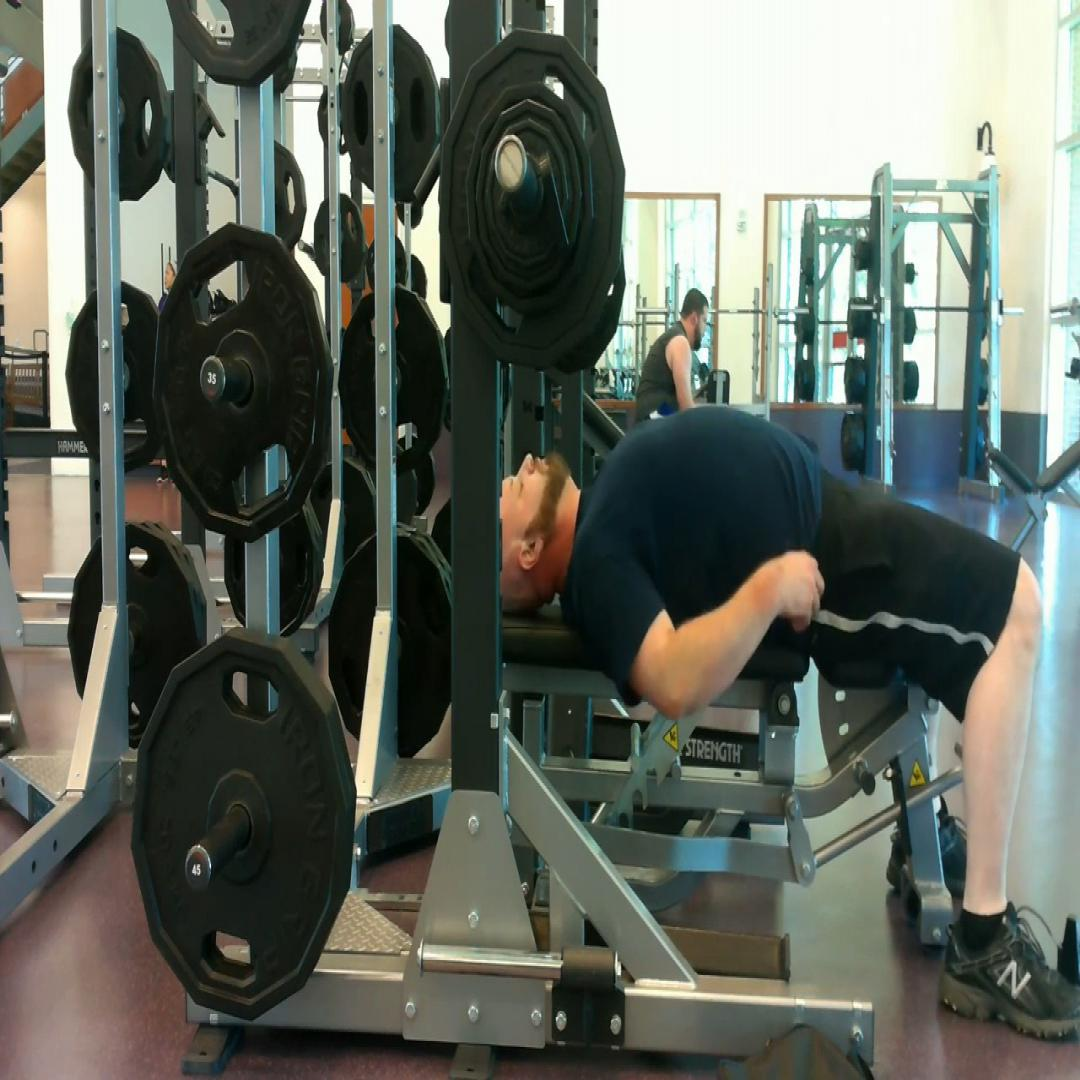Bar: (494, 134, 526, 192)
Barbell: (440, 30, 624, 368)
